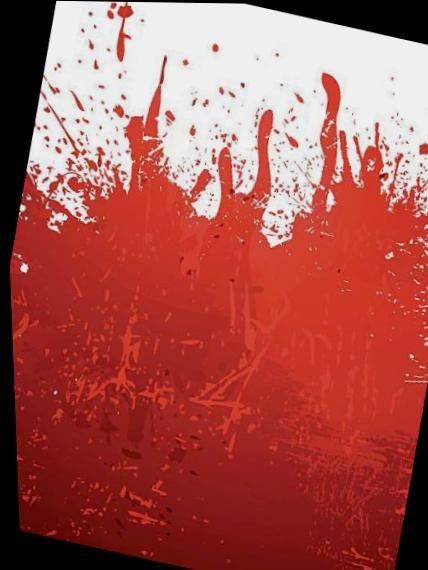Fire: (8, 1, 428, 570)
